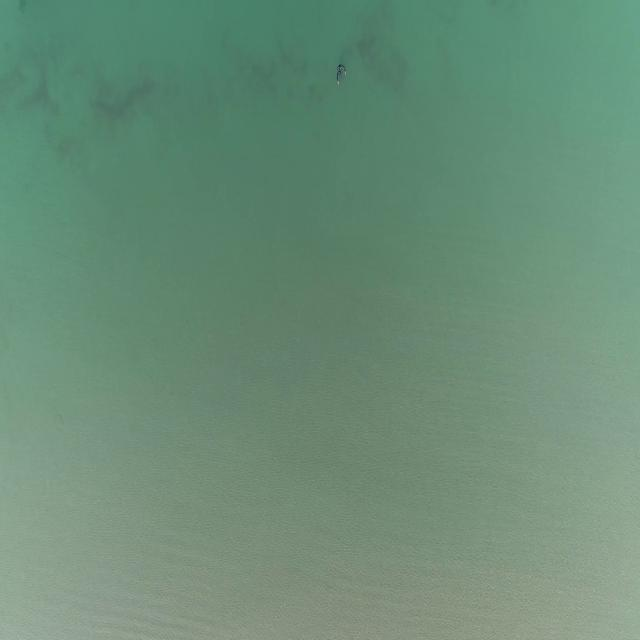person: (335, 63, 348, 84)
